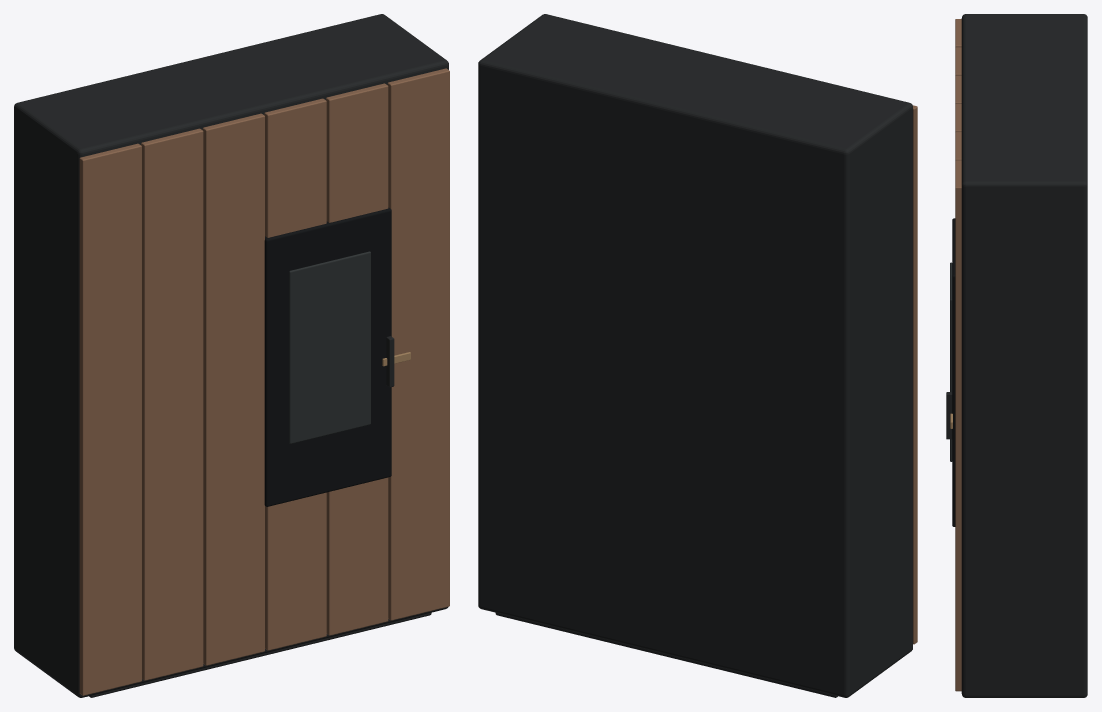
Rendered from ravelli-line-bronzo.glb.
3 views of the same model, side by side, from view 1: azimuth 30°, elevation 25°; view 2: azimuth 150°, elevation 25°; view 3: azimuth 270°, elevation 25° (orthographic). The views are drawn at different scales.
Parts seen in each view (by area): view 1: Corpo, Pannello verticale, Pannello verticale.001, Pannello verticale.002, Pannello verticale.005, Porta, Pannello verticale.004, Pannello verticale.003, Vetro sportello, Zoccolo; view 2: Corpo, Pannello verticale, Zoccolo; view 3: Corpo, Pannello verticale.005, Porta, Vetro sportello, Maniglia.
Part boxes in pixels (bbox=[...]): Corpo: bbox=[14, 14, 448, 697]; Pannello verticale: bbox=[79, 143, 141, 695]; Pannello verticale.001: bbox=[141, 128, 203, 680]; Pannello verticale.002: bbox=[202, 113, 264, 665]; Pannello verticale.005: bbox=[387, 68, 449, 620]; Porta: bbox=[264, 207, 391, 506]; Pannello verticale.004: bbox=[326, 83, 388, 635]; Pannello verticale.003: bbox=[264, 98, 326, 650]; Vetro sportello: bbox=[289, 251, 370, 443]; Zoccolo: bbox=[89, 612, 431, 697]; Corpo: bbox=[478, 14, 912, 697]; Pannello verticale: bbox=[913, 105, 917, 644]; Zoccolo: bbox=[495, 613, 837, 697]; Corpo: bbox=[961, 14, 1087, 697]; Pannello verticale.005: bbox=[955, 160, 961, 691]; Porta: bbox=[952, 218, 955, 526]; Vetro sportello: bbox=[950, 262, 952, 461]; Maniglia: bbox=[946, 392, 952, 439].
Bounding box in the file's own units: 0.8 × 1.14 × 0.281.
